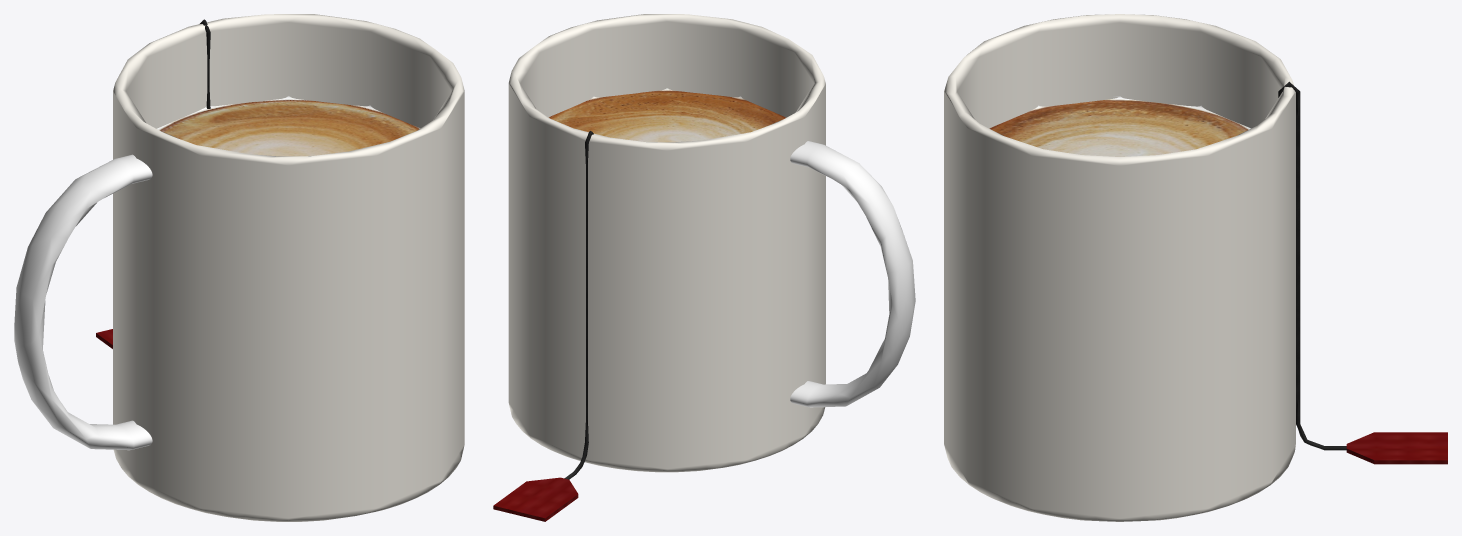
File: mug.glb
The picture shows the model from 3 angles, left to right: view 1: azimuth 30°, elevation 25°; view 2: azimuth 150°, elevation 25°; view 3: azimuth 270°, elevation 25°; orthographic projection. The views are drawn at different scales.
Parts seen in each view (by area): view 1: Revolve [1966], Sweep [2356], Revolve [2679]; view 2: Revolve [1966], Sweep [2356], Revolve [2679], Extrusion [4004], Sweep [3466]; view 3: Revolve [1966], Revolve [2679], Extrusion [4004], Sweep [3466].
Boxes of the visible parts, x1,y1,x2,y2 form: Revolve [1966]: (113,14,464,521); Sweep [2356]: (14,154,152,450); Revolve [2679]: (157,96,420,156); Revolve [1966]: (508,14,825,472); Sweep [2356]: (790,141,915,407); Revolve [2679]: (548,88,786,142); Extrusion [4004]: (493,477,578,521); Sweep [3466]: (564,131,593,479); Revolve [1966]: (944,14,1295,521); Revolve [2679]: (989,96,1250,156); Extrusion [4004]: (1346,432,1447,464); Sweep [3466]: (1278,81,1346,450).
Size of the model in its own units: 0.1108 by 0.0925 by 0.1146.
Materials: 5 (4 with a texture image).
